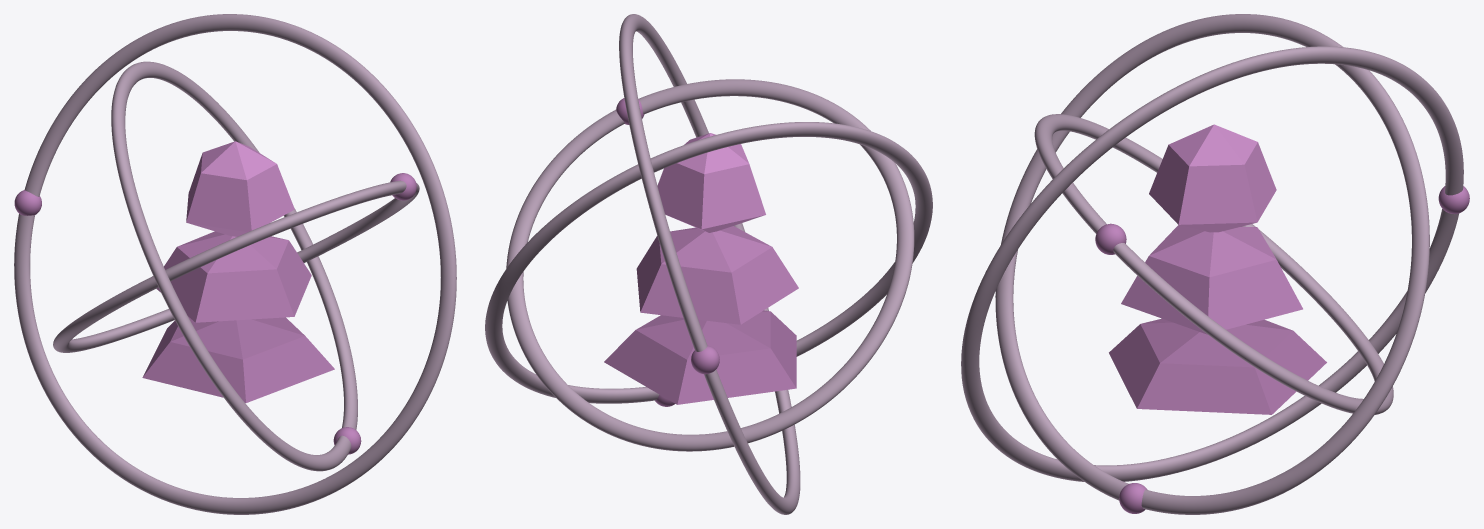
The picture shows the model from 3 angles, left to right: view 1: azimuth 30°, elevation 25°; view 2: azimuth 150°, elevation 25°; view 3: azimuth 270°, elevation 25°; orthographic projection. The views are drawn at different scales.
Size of the model in its own units: 0.9343 by 1.11 by 1.06.
